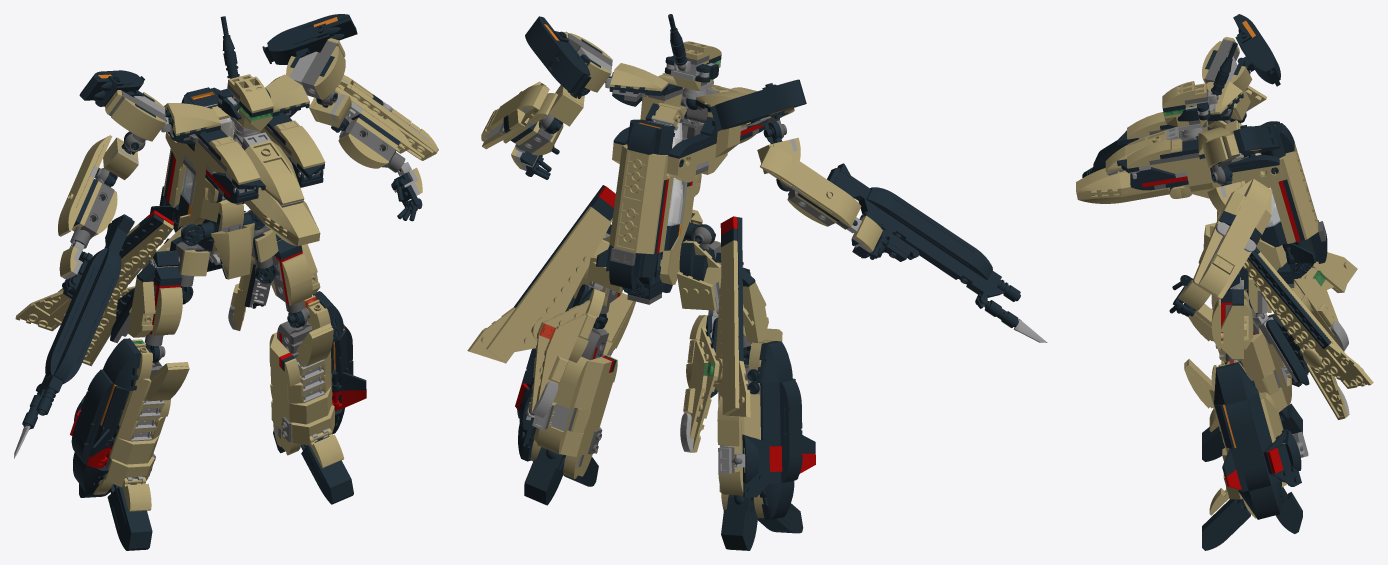
The model's file is yf-19-alpha-one-battroid-super.dae.
The picture shows the model from 3 angles, left to right: view 1: azimuth 30°, elevation 25°; view 2: azimuth 150°, elevation 25°; view 3: azimuth 270°, elevation 25°; orthographic projection. The views are drawn at different scales.
Size of the model in its own units: 900 by 517 by 883.
